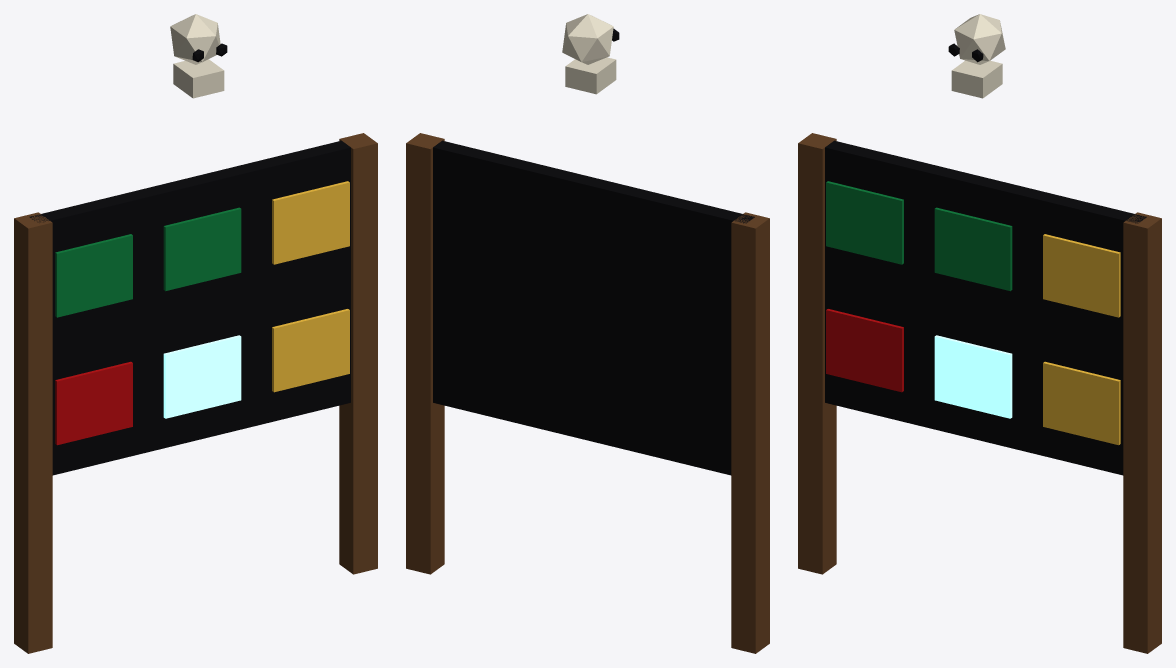
The model's file is Prop_OR_OddsBoard_12.glb.
3 renders of one model, left to right at view 1: azimuth 30°, elevation 25°; view 2: azimuth 150°, elevation 25°; view 3: azimuth 330°, elevation 25°, orthographic.
Parts seen in each view (by area): view 1: Prop_OR_OddsBoard_12; view 2: Prop_OR_OddsBoard_12; view 3: Prop_OR_OddsBoard_12.
Boxes of the visible parts, bbox=[...] form: Prop_OR_OddsBoard_12: bbox=[14, 14, 377, 653]; Prop_OR_OddsBoard_12: bbox=[406, 14, 769, 653]; Prop_OR_OddsBoard_12: bbox=[798, 14, 1161, 653].
Bounding box in the file's own units: 2.15 × 3.48 × 0.3057.
